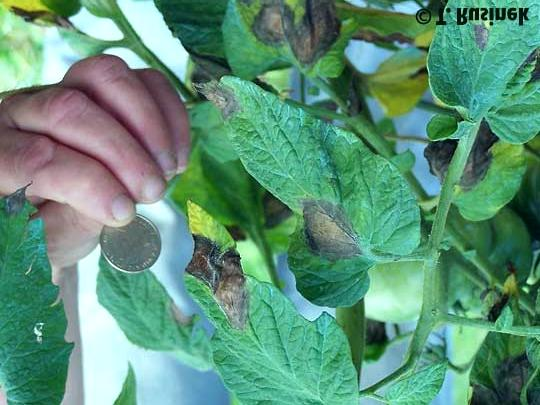Tomato leaf late blight: (187, 69, 435, 311), (170, 197, 360, 402), (415, 0, 540, 147)
